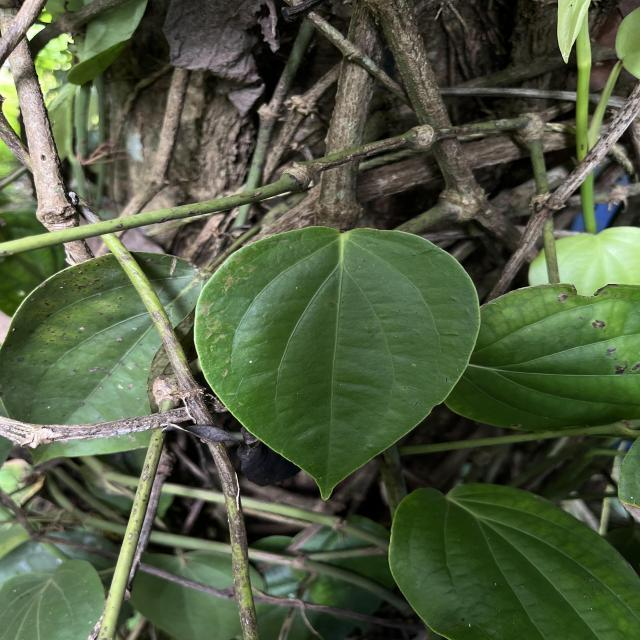Piper nigrum: (190, 223, 482, 503)
